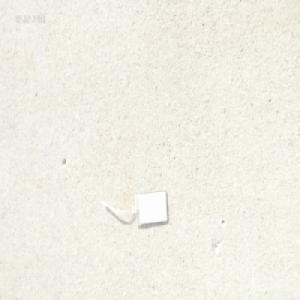LuggageTag: (99, 187, 170, 228)
